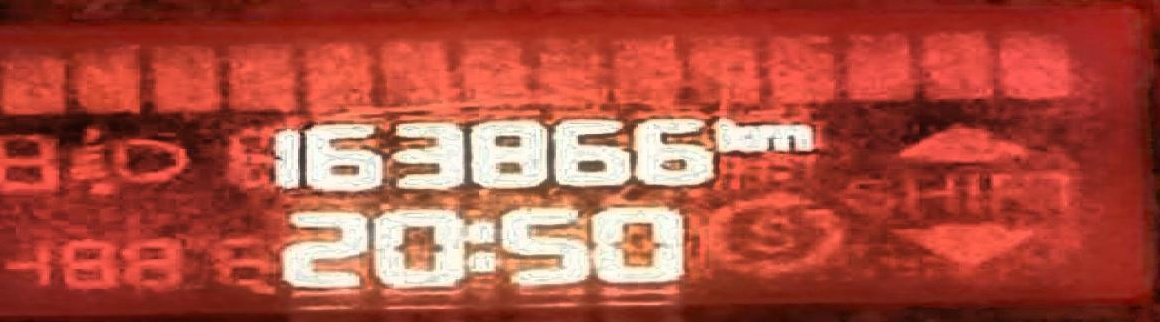0: (593, 204, 682, 288), (371, 206, 462, 287)
1: (264, 119, 300, 195)
2: (280, 207, 369, 290)
3: (389, 117, 464, 190)
5: (497, 204, 591, 288)
6: (302, 119, 384, 193), (631, 115, 713, 186), (551, 116, 629, 187)
8: (469, 116, 547, 191)
X: (751, 121, 815, 155), (711, 112, 751, 157), (467, 216, 496, 275)
